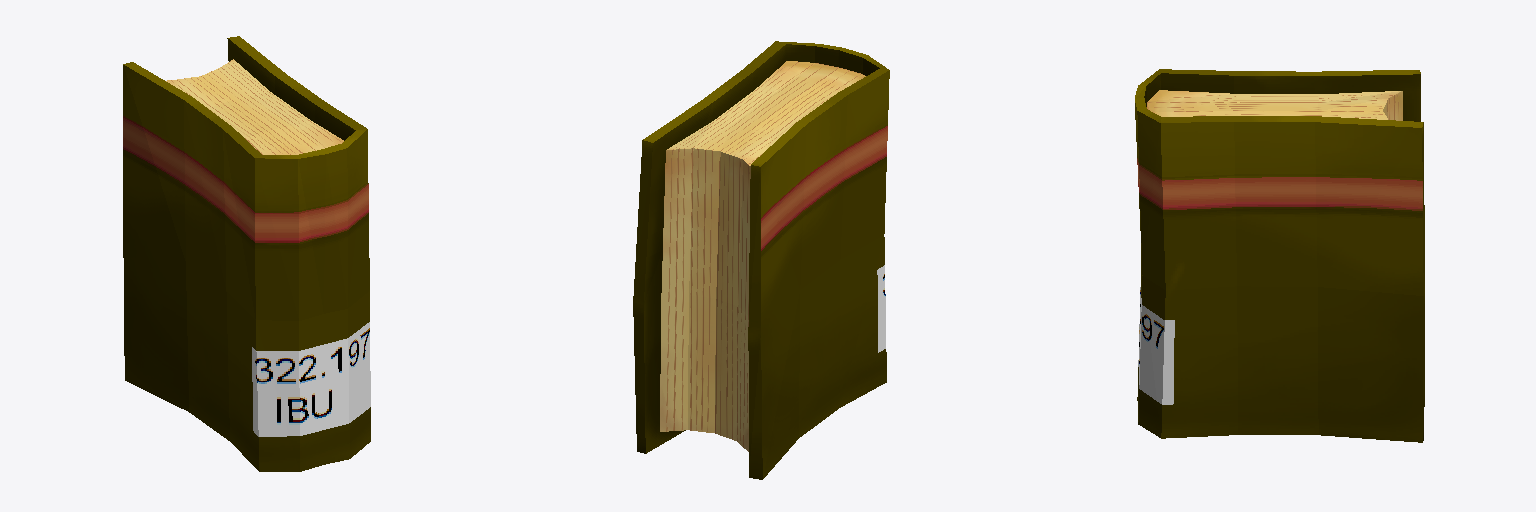
3 views of the same model, side by side, from view 1: azimuth 30°, elevation 25°; view 2: azimuth 150°, elevation 25°; view 3: azimuth 270°, elevation 25° (orthographic).
Visible parts, largest first — view 1: Cover.001, Pages.002; view 2: Cover.001, Pages.002; view 3: Cover.001, Pages.002.
Part boxes in pixels (bbox=[...]): Cover.001: bbox=[123, 36, 370, 471]; Pages.002: bbox=[166, 59, 343, 154]; Cover.001: bbox=[633, 41, 889, 479]; Pages.002: bbox=[660, 61, 865, 451]; Cover.001: bbox=[1135, 69, 1424, 442]; Pages.002: bbox=[1147, 90, 1402, 120].
Bounding box in the file's own units: 2.93 × 7.05 × 5.85.
2 materials, 2 textured.